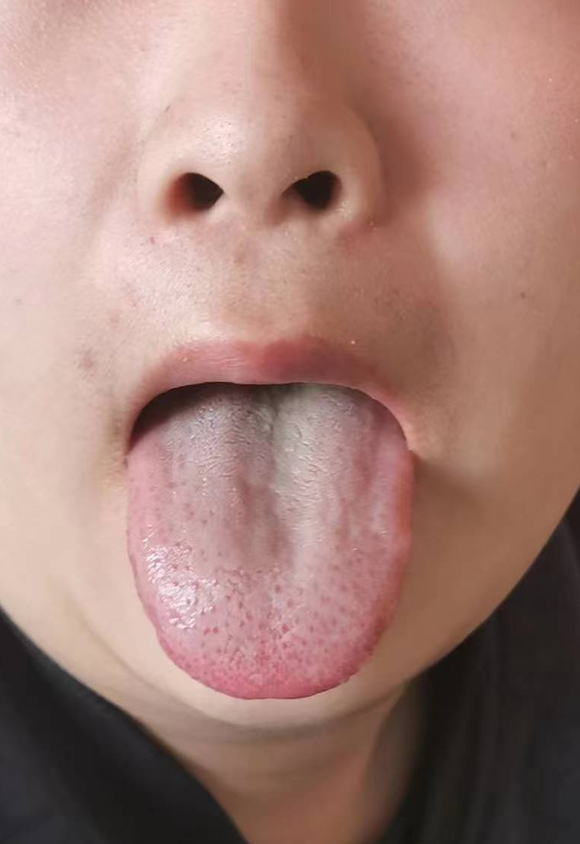baitaishe: (128, 385, 414, 700)
hongdianshe: (279, 622, 290, 635), (211, 624, 219, 633)
